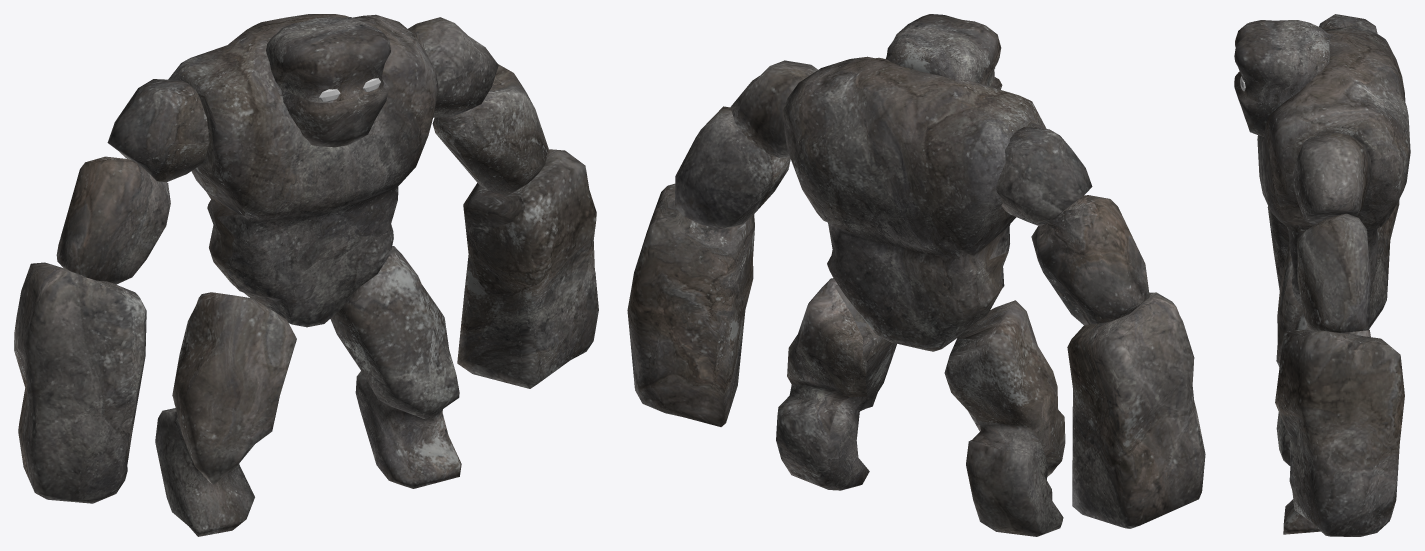
Rendered from walk_000002.obj.
3 views of the same model, side by side, from view 1: azimuth 30°, elevation 25°; view 2: azimuth 150°, elevation 25°; view 3: azimuth 270°, elevation 25° (orthographic). The views are drawn at different scales.
Visible parts, largest first — view 1: hands&leg.001_ice.003, torso.001_ice.005, head.001_ice.004; view 2: hands&leg.001_ice.003, torso.001_ice.005, head.001_ice.004; view 3: hands&leg.001_ice.003, torso.001_ice.005, head.001_ice.004.
Boxes of the visible parts, x1,y1,x2,y2 form: hands&leg.001_ice.003: [14, 17, 598, 536]; torso.001_ice.005: [168, 14, 438, 327]; head.001_ice.004: [266, 17, 390, 147]; hands&leg.001_ice.003: [627, 60, 1205, 536]; torso.001_ice.005: [783, 56, 1046, 351]; head.001_ice.004: [886, 14, 1002, 89]; hands&leg.001_ice.003: [1267, 14, 1404, 536]; torso.001_ice.005: [1257, 25, 1410, 308]; head.001_ice.004: [1234, 20, 1330, 136].
Bounding box in the file's own units: 11.86 × 9.56 × 3.41.
2 materials, 1 textured.
